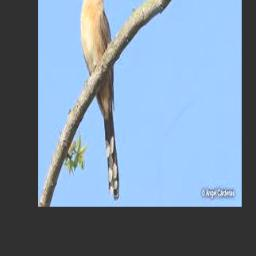Cuckoo: (80, 0, 119, 200)
